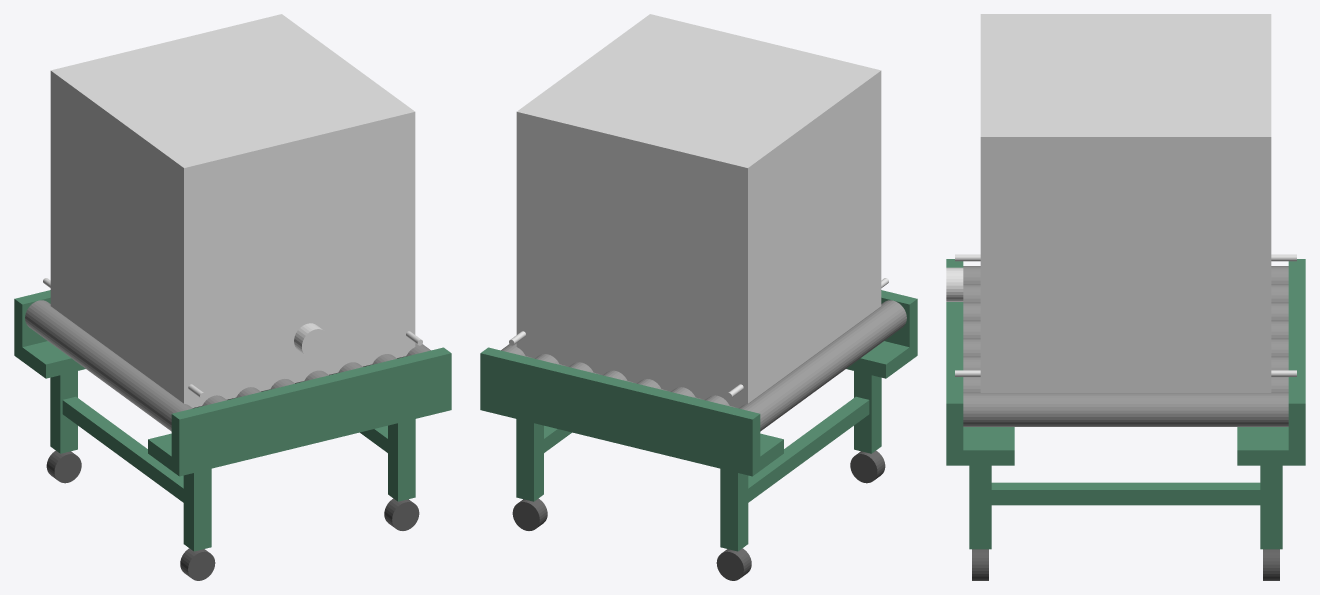
The model's file is plateform_conveyor_ver5.gltf.
3 views of the same model, side by side, from view 1: azimuth 30°, elevation 25°; view 2: azimuth 150°, elevation 25°; view 3: azimuth 270°, elevation 25° (orthographic). The views are drawn at different scales.
Parts seen in each view (by area): view 1: InvisibleBulkSensor, RightFrame, Roller_0, RightBottonFrame, LeftBottonFrame.002, Leg_-0.75_L, Leg_0.75_L, Leg_-0.75_R, LeftBottonFrame, LeftFrame, Light_bulb_0, Wheel_0.75_-0.85 (+2 smaller); view 2: InvisibleBulkSensor, LeftFrame, Roller_0, LeftBottonFrame, LeftBottonFrame.002, Leg_-0.75_R, Leg_0.75_R, Leg_-0.75_L, RightBottonFrame, RightFrame, Wheel_0.75_0.85, Wheel_-0.75_0.85 (+1 smaller); view 3: InvisibleBulkSensor, Roller_7, LeftBottonFrame.001, LeftFrame, RightFrame, RightBottonFrame, LeftBottonFrame, Leg_0.75_L, Leg_0.75_R, Roller_0, Roller_1, Roller_2 (+7 smaller).
Boxes of the visible parts, x1,y1,x2,y2 form: InvisibleBulkSensor: (50,14,415,407); RightFrame: (171,347,451,462); Roller_0: (25,300,192,431); RightBottonFrame: (148,396,451,476); LeftBottonFrame.002: (62,396,183,502); Leg_-0.75_L: (183,468,211,551); Leg_0.75_L: (388,419,415,501); Leg_-0.75_R: (50,371,77,453); LeftBottonFrame: (14,341,85,378); LeftFrame: (14,290,50,347); Light_bulb_0: (294,323,328,358); Wheel_0.75_-0.85: (384,498,419,530); InvisibleBulkSensor: (516,14,881,407); LeftFrame: (480,347,760,462); Roller_0: (739,300,906,431); LeftBottonFrame: (480,396,783,476); LeftBottonFrame.002: (748,396,869,502); Leg_-0.75_R: (720,468,748,551); Leg_0.75_R: (516,419,543,501); Leg_-0.75_L: (854,371,881,453); RightBottonFrame: (846,341,917,378); RightFrame: (881,290,917,347); Wheel_0.75_0.85: (512,498,547,530); Wheel_-0.75_0.85: (716,548,751,580); InvisibleBulkSensor: (980,14,1271,392); Roller_7: (963,392,1288,426); LeftBottonFrame.001: (991,482,1260,505); LeftFrame: (1288,259,1305,450); RightFrame: (946,259,963,450); RightBottonFrame: (946,427,1014,465); LeftBottonFrame: (1237,427,1305,465); Leg_0.75_L: (969,465,991,549); Leg_0.75_R: (1260,465,1282,549); Roller_0: (963,266,1288,284); Roller_1: (963,284,1288,302); Roller_2: (963,302,1288,320).
Size of the model in its own units: 2 by 2.9 by 2.1.
